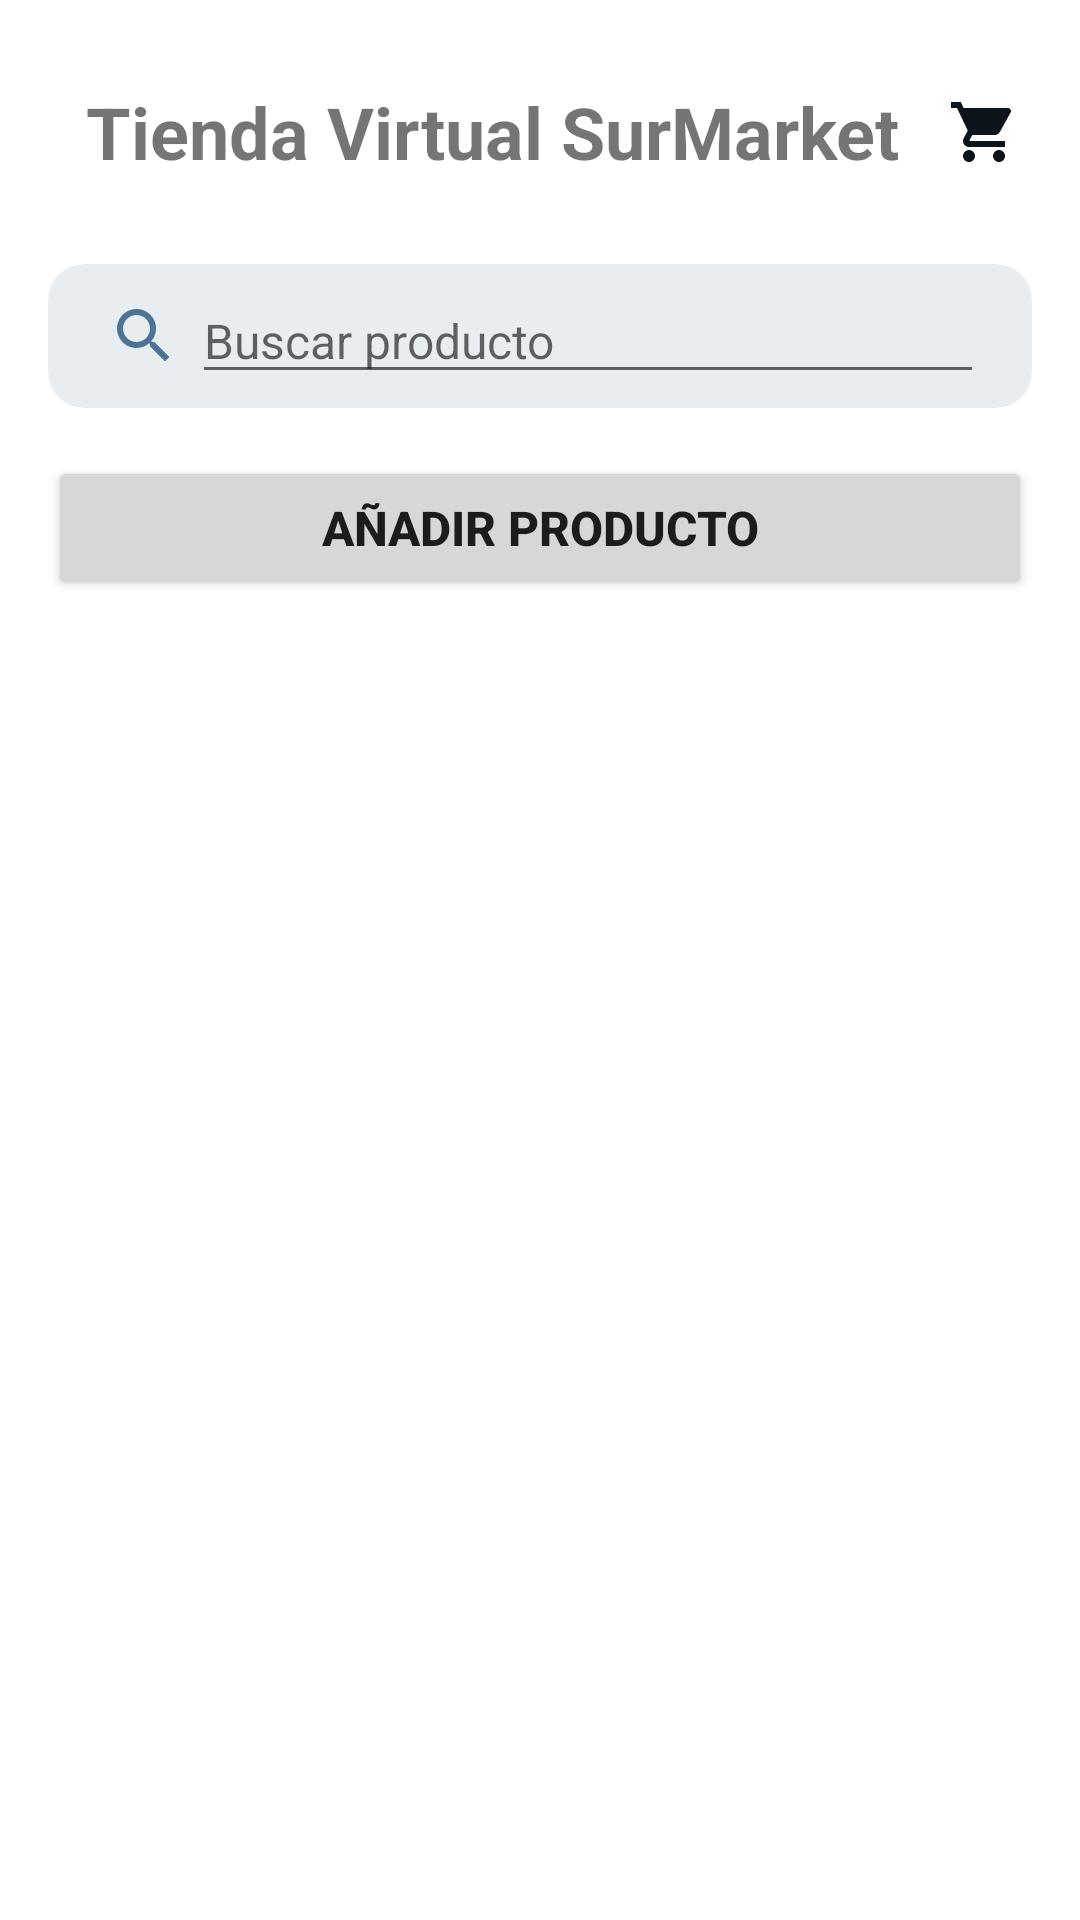

Where to tap for icons on this 1080x1920 app screen, as (x=x, y=y):
Carrito de compras: (x=981, y=132)
